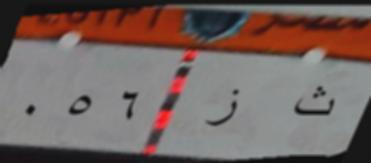0: (17, 94, 42, 124)
5: (64, 90, 95, 122)
6: (116, 89, 142, 126)
thaa: (293, 82, 337, 126)
zay: (207, 87, 242, 130)
